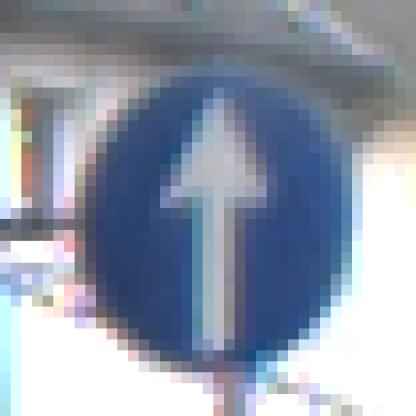AheadOnly: (65, 56, 364, 362)
